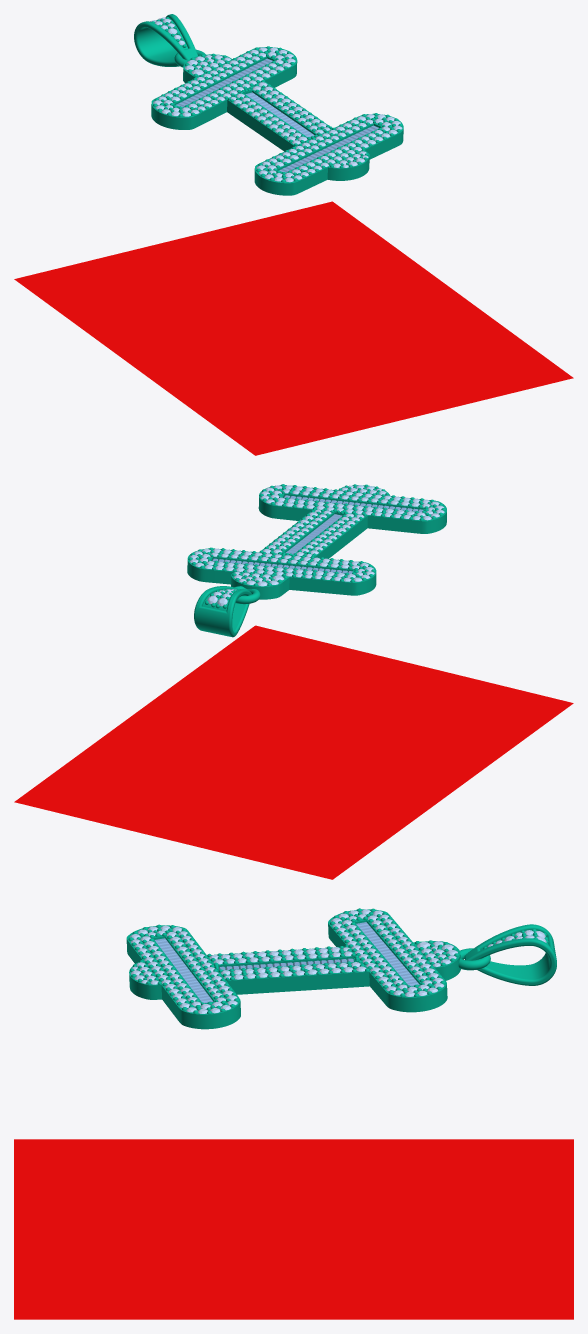
3 renders of one model, top to bottom at view 1: azimuth 30°, elevation 25°; view 2: azimuth 150°, elevation 25°; view 3: azimuth 270°, elevation 25°, orthographic. The views are drawn at different scales.
Visible parts, largest first — view 1: PN 0014(base).3dm; view 2: PN 0014(base).3dm; view 3: PN 0014(base).3dm.
Boxes of the visible parts, x1,y1,x2,y2 form: PN 0014(base).3dm: (14, 14, 573, 455); PN 0014(base).3dm: (14, 485, 573, 879); PN 0014(base).3dm: (14, 909, 573, 1319).
Size of what is drawn, in the model's own units: 3.46 by 2.51 by 4.54.
